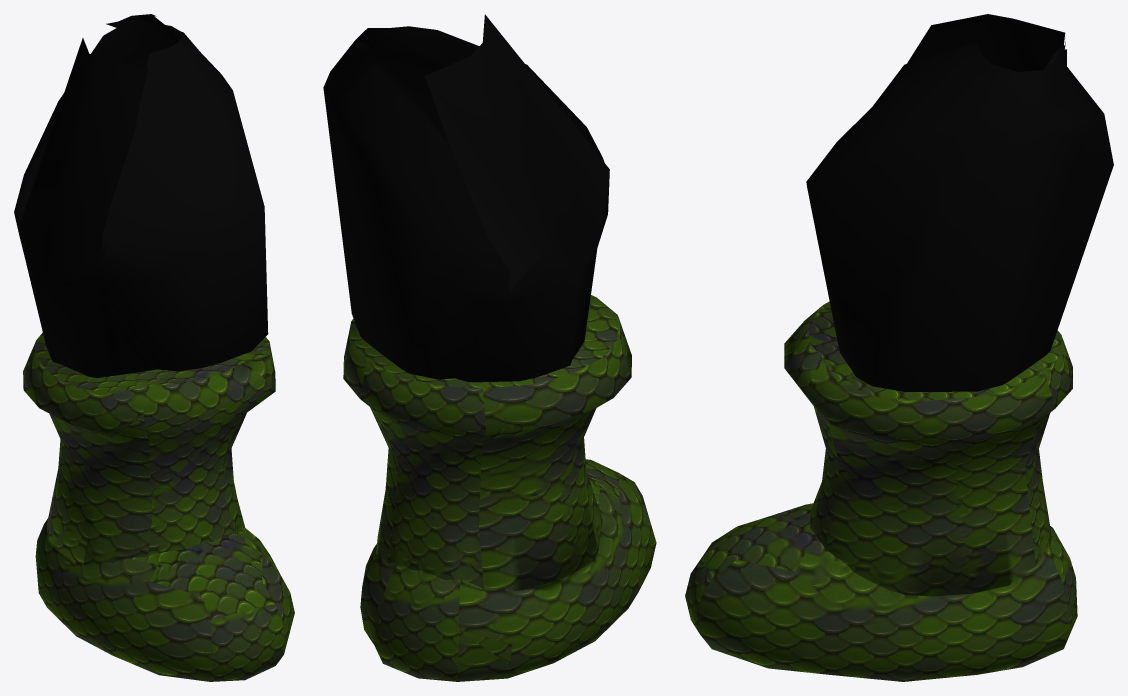
The model's file is piernaIzq.obj.
3 renders of one model, left to right at view 1: azimuth 30°, elevation 25°; view 2: azimuth 150°, elevation 25°; view 3: azimuth 270°, elevation 25°, orthographic. The views are drawn at different scales.
Visible parts, largest first — view 1: piernaizq, botaIzq; view 2: piernaizq, botaIzq; view 3: botaIzq, piernaizq.
Boxes of the visible parts, x1,y1,x2,y2 form: piernaizq: (14,14,268,377); botaIzq: (23,332,294,681); piernaizq: (323,14,609,382); botaIzq: (343,295,656,681); botaIzq: (685,301,1077,681); piernaizq: (806,14,1113,391).
Size of the model in its own units: 1.08 by 2.54 by 1.6.
Materials: 2 (2 with a texture image).
